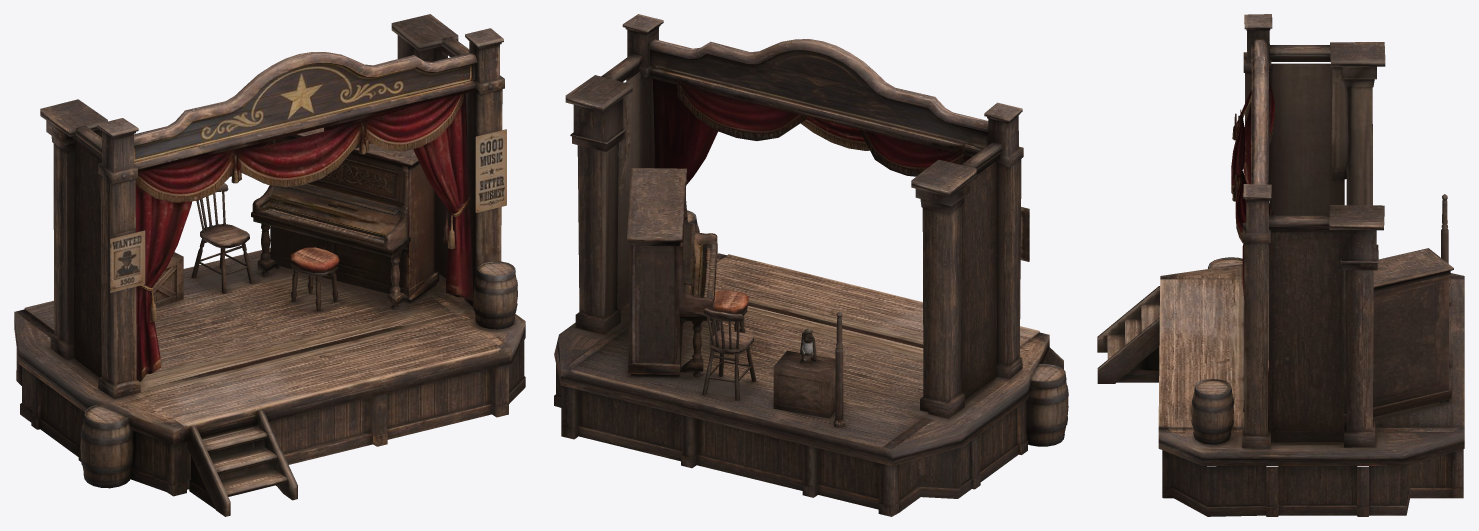
File: stage.glb
3 views of the same model, side by side, from view 1: azimuth 30°, elevation 25°; view 2: azimuth 150°, elevation 25°; view 3: azimuth 270°, elevation 25° (orthographic). The views are drawn at different scales.
Parts seen in each view (by area): view 1: tripo_node_9148d901-b430-48b6-9693-105064ce76d6; view 2: tripo_node_9148d901-b430-48b6-9693-105064ce76d6; view 3: tripo_node_9148d901-b430-48b6-9693-105064ce76d6.
Boxes of the visible parts, bbox=[...] form: tripo_node_9148d901-b430-48b6-9693-105064ce76d6: bbox=[14, 14, 525, 516]; tripo_node_9148d901-b430-48b6-9693-105064ce76d6: bbox=[554, 14, 1068, 516]; tripo_node_9148d901-b430-48b6-9693-105064ce76d6: bbox=[1097, 14, 1464, 516].
Size of the model in its own units: 0.9995 by 0.8032 by 0.7759.
Materials: 1 (1 with a texture image).
